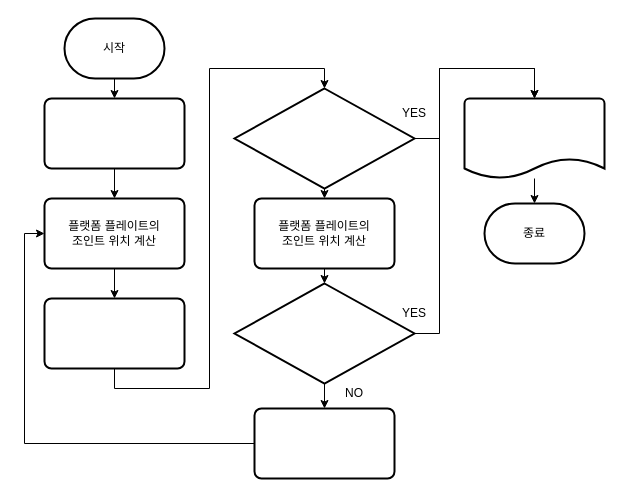
The diagram is 623 pixels wide and 496 high, and some of its shapes have lost their labels. The shapes that lost their labels are listed below. From the top down, each one's box as (x1, y1, x2, y2) in pixels, then its label:
(43, 97, 185, 169): 초기값 a_0 선정
(463, 97, 605, 179): a 값을 ROS topic으로 퍼블리시
